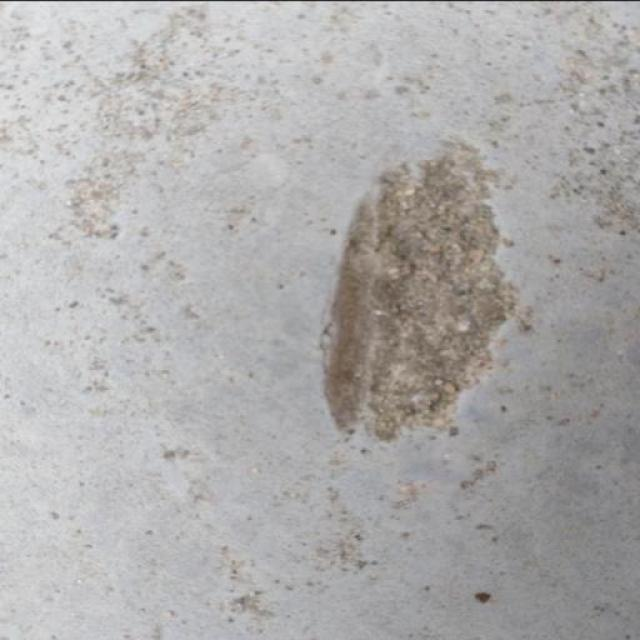D10: (319, 134, 520, 441)
